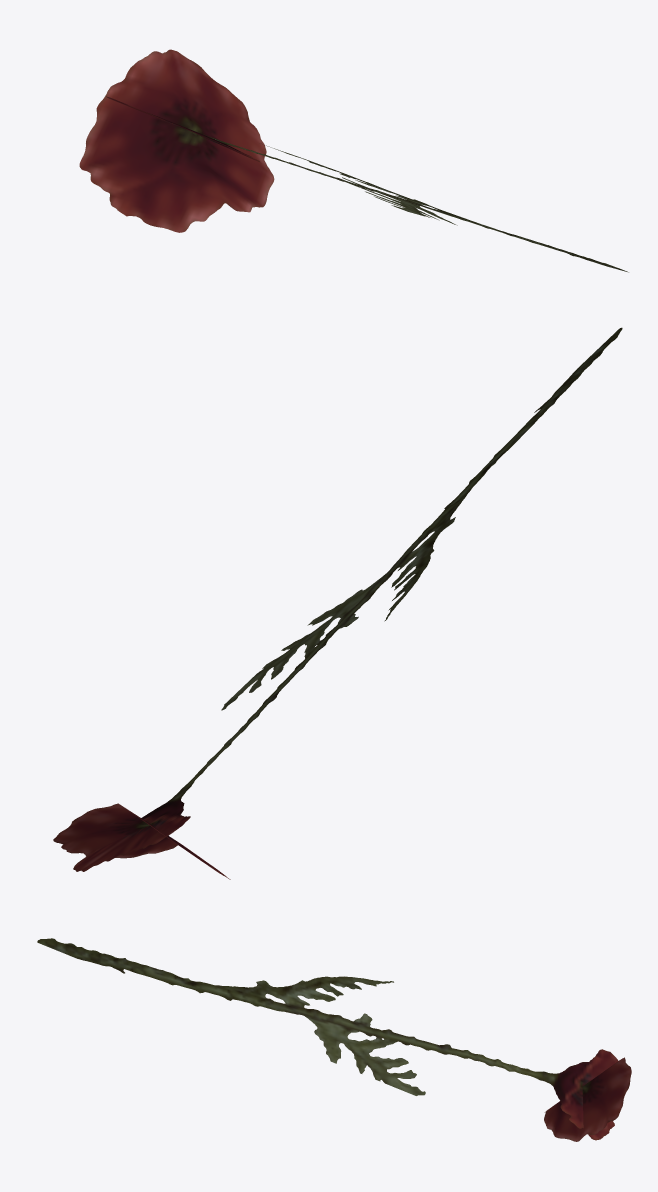
The model's file is MEP_RedFlower_03.fbx.
3 views of the same model, one above another, from view 1: azimuth 30°, elevation 25°; view 2: azimuth 150°, elevation 25°; view 3: azimuth 270°, elevation 25° (orthographic). The views are drawn at different scales.
Visible parts, largest first — view 1: MEP_RedFlower_03; view 2: MEP_RedFlower_03; view 3: MEP_RedFlower_03.
Boxes of the visible parts, x1,y1,x2,y2 form: MEP_RedFlower_03: (79,49,628,272); MEP_RedFlower_03: (53,327,622,879); MEP_RedFlower_03: (37,938,631,1141).
Size of the model in its own units: 0.196 by 0.2505 by 0.7412.
